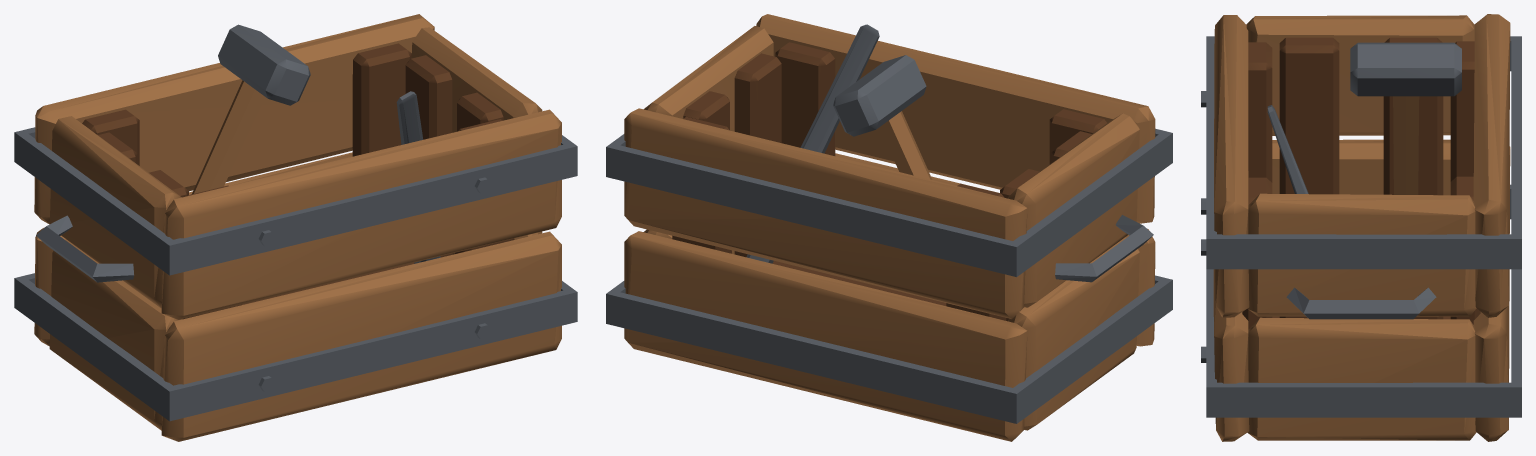
File: smith_tool_crate.glb
3 views of the same model, side by side, from view 1: azimuth 30°, elevation 25°; view 2: azimuth 150°, elevation 25°; view 3: azimuth 270°, elevation 25° (orthographic).
Visible parts, largest first — view 1: wall_front_plank_1, wall_front_plank_0, wall_back_plank_1, band_high_band, band_low_band, wall_left_plank_0, wall_left_plank_1, wall_back_batten_right, hammer_head, wall_right_plank_0, hammer_handle, wall_right_batten_right (+5 smaller); view 2: wall_back_plank_0, wall_back_plank_1, wall_front_plank_0, band_high_band, band_low_band, wall_left_plank_0, wall_left_plank_1, hammer_head, wall_front_batten_right, wall_right_plank_0, wall_right_batten_left, chisel (+6 smaller); view 3: wall_right_plank_1, wall_right_plank_0, band_high_band, band_low_band, wall_back_plank_1, wall_front_plank_0, wall_left_plank_0, wall_left_batten_right, hammer_head, wall_left_batten_left, wall_left_plank_1, wall_front_batten_left (+8 smaller).
Boxes of the visible parts, bbox=[...] form: wall_front_plank_1: bbox=[161, 231, 561, 441]; wall_front_plank_0: bbox=[161, 109, 561, 319]; wall_back_plank_1: bbox=[34, 14, 434, 224]; band_high_band: bbox=[14, 127, 577, 275]; band_low_band: bbox=[14, 273, 577, 421]; wall_left_plank_0: bbox=[49, 116, 181, 308]; wall_left_plank_1: bbox=[49, 239, 181, 430]; wall_back_batten_right: bbox=[352, 43, 411, 156]; hammer_head: bbox=[218, 24, 310, 105]; wall_right_plank_0: bbox=[412, 27, 542, 132]; hammer_handle: bbox=[192, 80, 264, 194]; wall_right_batten_right: bbox=[405, 55, 452, 257]; wall_back_plank_0: bbox=[624, 231, 1027, 441]; wall_back_plank_1: bbox=[624, 108, 1027, 318]; wall_front_plank_0: bbox=[756, 14, 1155, 223]; band_high_band: bbox=[606, 128, 1172, 277]; band_low_band: bbox=[606, 275, 1172, 423]; wall_left_plank_0: bbox=[1008, 113, 1139, 307]; wall_left_plank_1: bbox=[1008, 237, 1139, 430]; hammer_head: bbox=[833, 55, 926, 136]; wall_front_batten_right: bbox=[775, 42, 835, 155]; wall_right_plank_0: bbox=[644, 26, 773, 131]; wall_right_batten_left: bbox=[734, 53, 781, 257]; chisel: bbox=[746, 24, 879, 263]; wall_right_plank_1: bbox=[1247, 317, 1476, 440]; wall_right_plank_0: bbox=[1247, 193, 1476, 316]; band_high_band: bbox=[1201, 36, 1521, 269]; band_low_band: bbox=[1201, 184, 1521, 417]; wall_back_plank_1: bbox=[1473, 14, 1510, 317]; wall_front_plank_0: bbox=[1214, 15, 1249, 317]; wall_left_plank_0: bbox=[1246, 15, 1474, 135]; wall_left_batten_right: bbox=[1279, 37, 1339, 194]; hammer_head: bbox=[1350, 42, 1461, 96]; wall_left_batten_left: bbox=[1383, 37, 1443, 195]; wall_left_plank_1: bbox=[1272, 139, 1450, 195]; wall_front_batten_left: bbox=[1248, 42, 1272, 182].
Size of what is drawn, in the model's own units: 0.7357 by 0.4413 by 0.4312.
